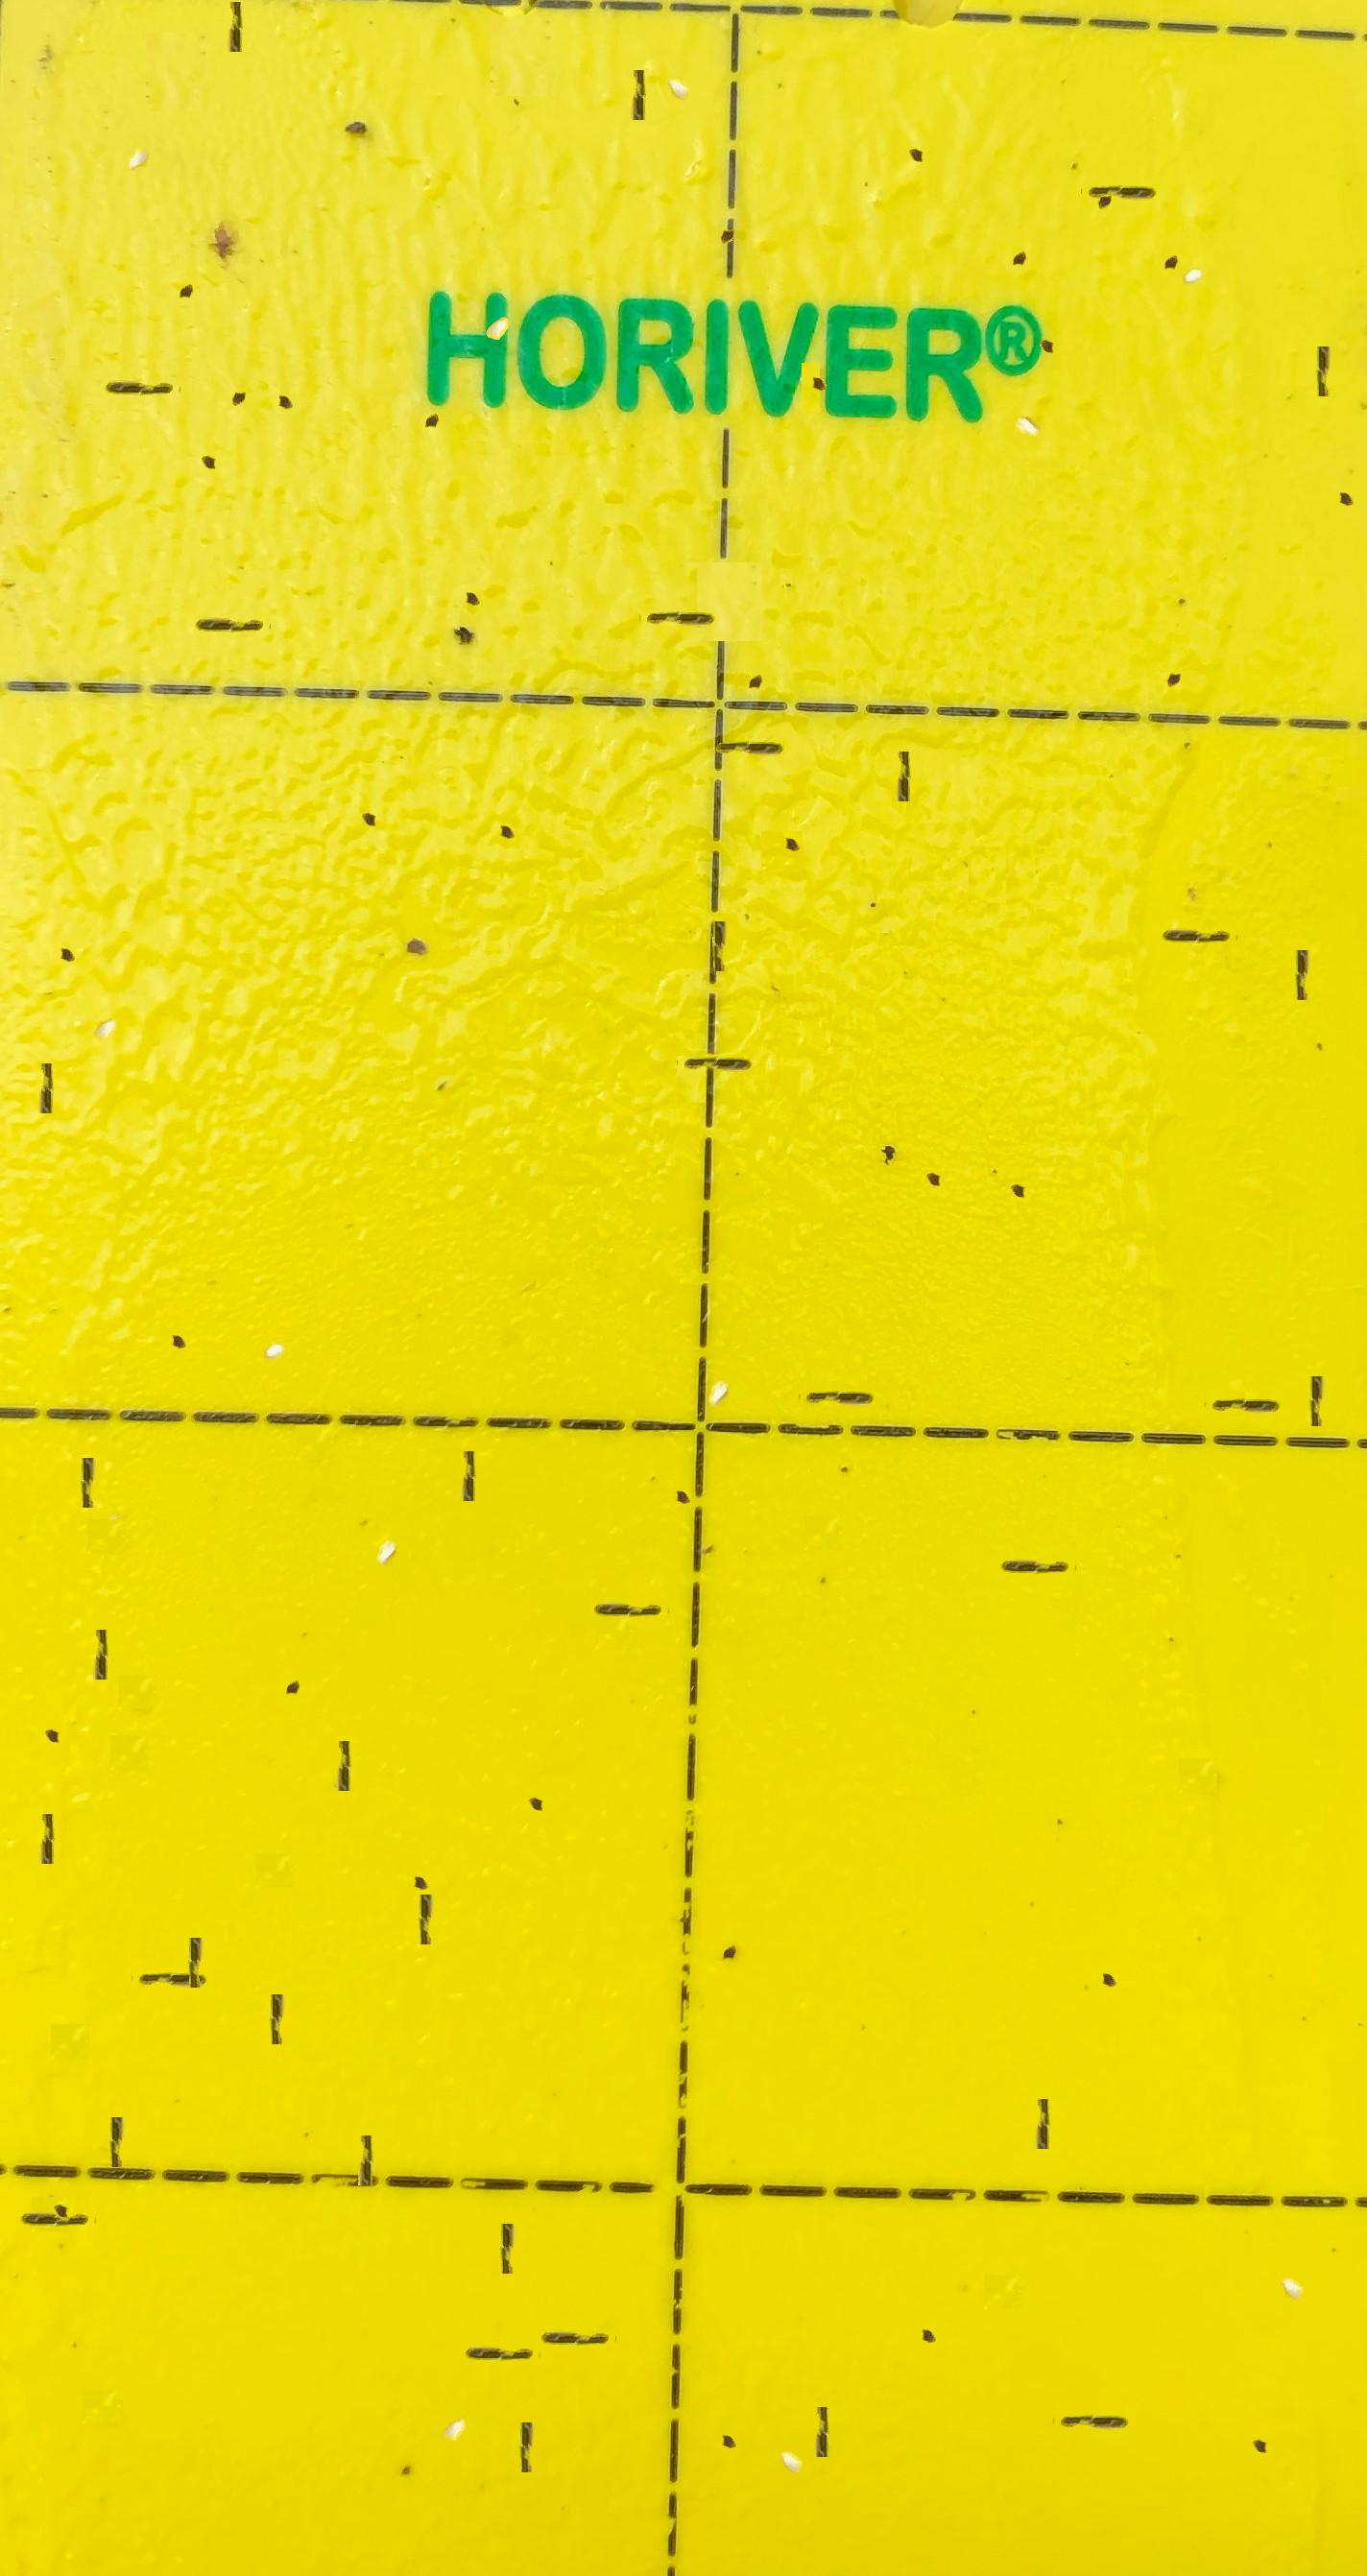white_fly: (254, 1279, 297, 1327), (1173, 204, 1215, 252), (695, 1322, 738, 1368), (1004, 359, 1047, 405), (363, 1482, 406, 1527), (476, 264, 518, 308), (658, 26, 701, 68), (770, 2399, 813, 2441), (433, 2366, 476, 2409), (1272, 2225, 1314, 2268), (118, 94, 159, 136), (85, 966, 126, 1009)
